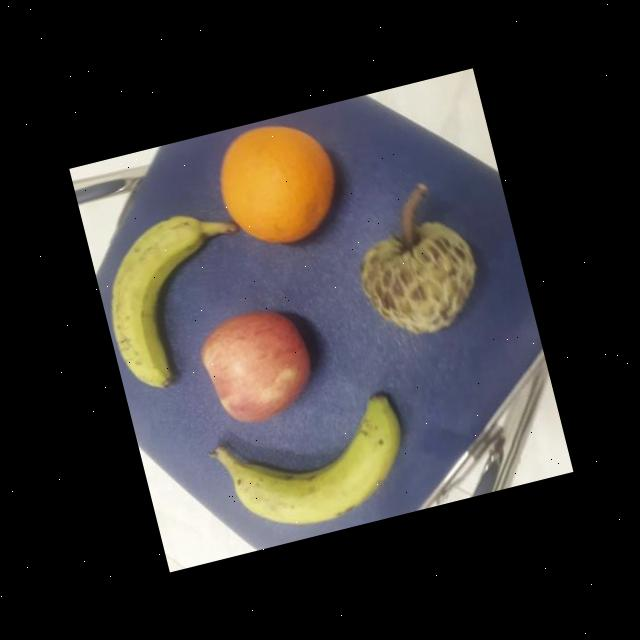Sakya fruit: (349, 210, 493, 349)
apple: (191, 298, 323, 434)
banana: (84, 204, 244, 400), (207, 402, 418, 544)
orange: (202, 107, 350, 265)
